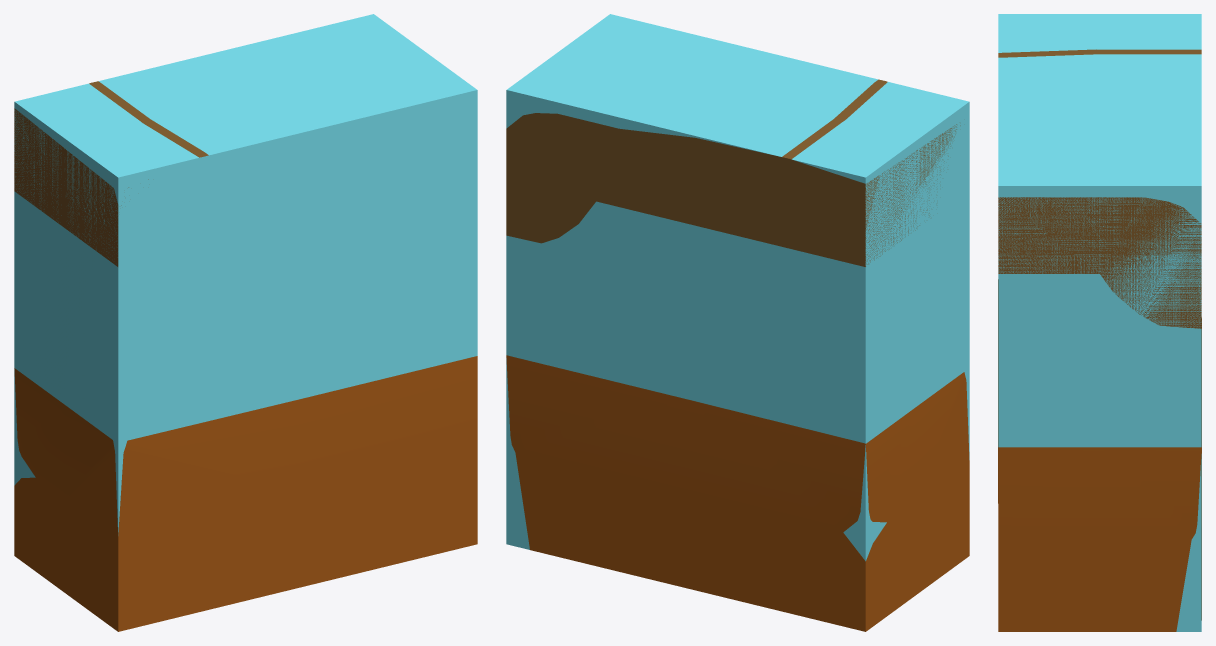
Rendered from PBOX2_Mud_03.FBX.
3 views of the same model, side by side, from view 1: azimuth 30°, elevation 25°; view 2: azimuth 150°, elevation 25°; view 3: azimuth 270°, elevation 25° (orthographic).
Visible parts, largest first — view 1: PBOX2_Mud_03, PBOX1_SUB_TAB_MUD_009, PBOX2_SUB_Mud_03; view 2: PBOX2_Mud_03, PBOX1_SUB_TAB_MUD_009, PBOX2_SUB_Mud_03; view 3: PBOX2_Mud_03, PBOX1_SUB_TAB_MUD_009, PBOX2_SUB_Mud_03.
Boxes of the visible parts, <box> form: PBOX2_Mud_03: <box>14,14,477,535</box>; PBOX1_SUB_TAB_MUD_009: <box>14,356,477,631</box>; PBOX2_SUB_Mud_03: <box>14,81,208,266</box>; PBOX2_Mud_03: <box>506,14,969,561</box>; PBOX1_SUB_TAB_MUD_009: <box>506,355,969,631</box>; PBOX2_SUB_Mud_03: <box>506,79,960,266</box>; PBOX2_Mud_03: <box>998,14,1201,631</box>; PBOX1_SUB_TAB_MUD_009: <box>998,279,1201,631</box>; PBOX2_SUB_Mud_03: <box>998,49,1201,328</box>.
Bounding box in the file's own units: 12 × 14.51 × 6.
